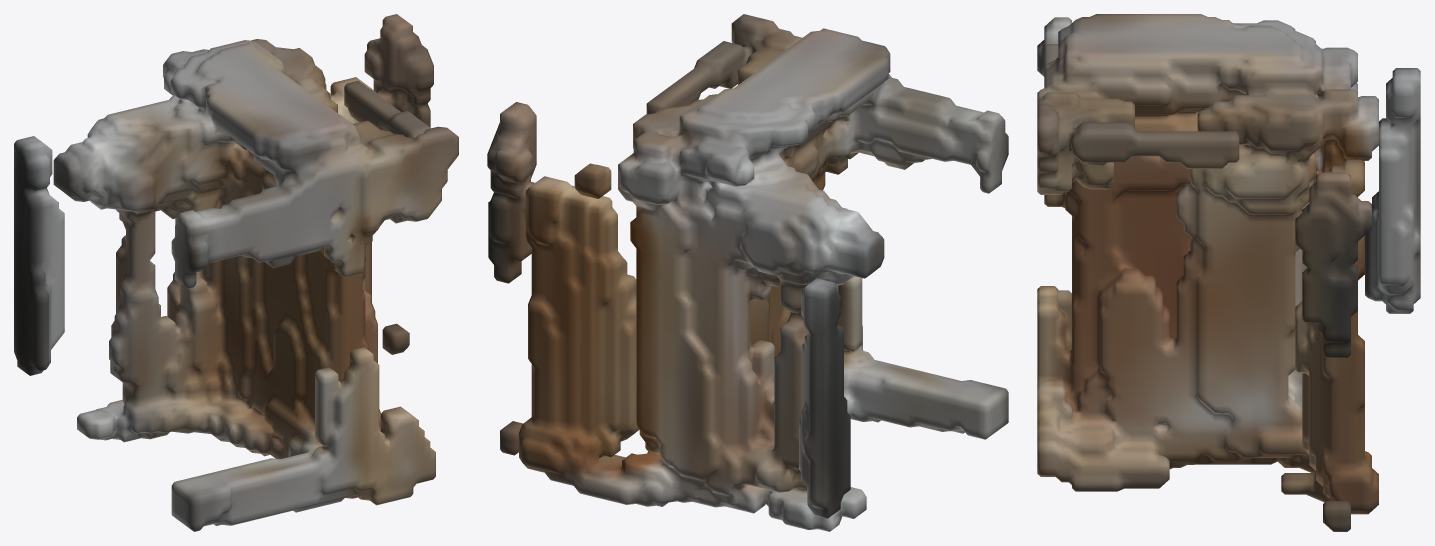
The model's file is A white wooden adirondack beach chair with a grill.glb.
The picture shows the model from 3 angles, left to right: view 1: azimuth 30°, elevation 25°; view 2: azimuth 150°, elevation 25°; view 3: azimuth 270°, elevation 25°; orthographic projection. The views are drawn at different scales.
Parts seen in each view (by area): view 1: A white wooden adirondack beach chair with a grill; view 2: A white wooden adirondack beach chair with a grill; view 3: A white wooden adirondack beach chair with a grill.
Part boxes in pixels (x1,y1,x2,y2): A white wooden adirondack beach chair with a grill: (14, 14, 458, 531); A white wooden adirondack beach chair with a grill: (487, 14, 1008, 531); A white wooden adirondack beach chair with a grill: (1037, 14, 1420, 531).
Size of the model in its own units: 64 by 63 by 55.
